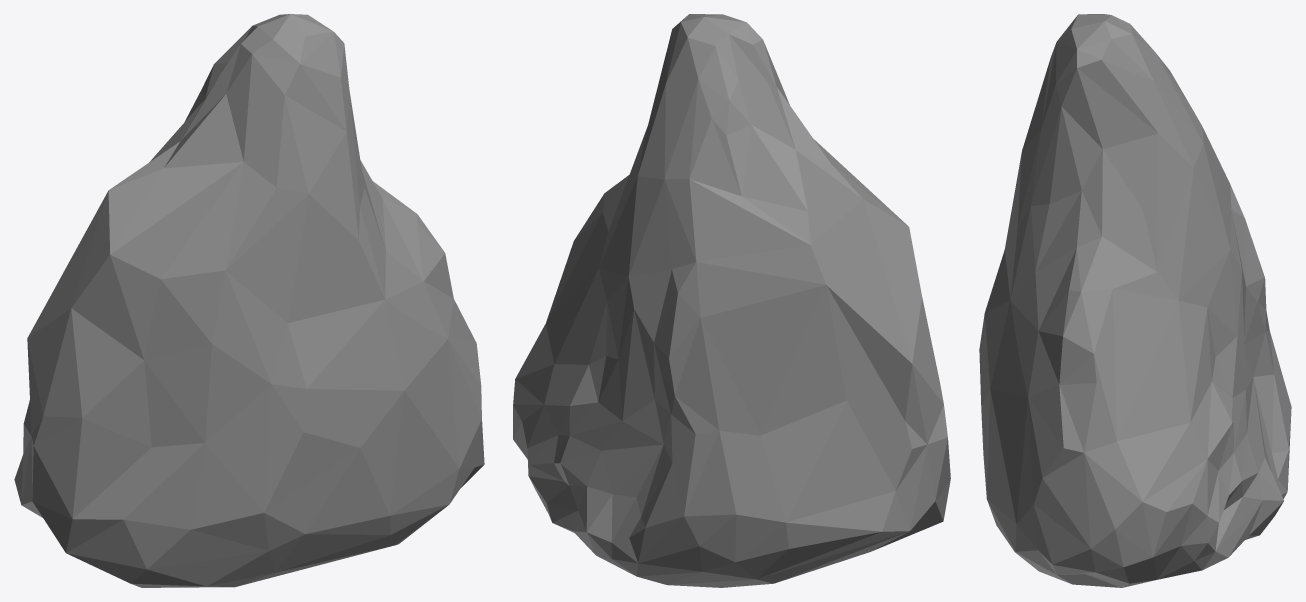
File: Rock_1.fbx
The picture shows the model from 3 angles, left to right: view 1: azimuth 30°, elevation 25°; view 2: azimuth 150°, elevation 25°; view 3: azimuth 270°, elevation 25°; orthographic projection. The views are drawn at different scales.
Visible parts, largest first — view 1: Rock_1; view 2: Rock_1; view 3: Rock_1.
Part boxes in pixels (x1,y1,x2,y2): Rock_1: (14,14,484,587); Rock_1: (513,14,950,587); Rock_1: (979,14,1291,587).
Size of the model in its own units: 554 by 637 by 348.
